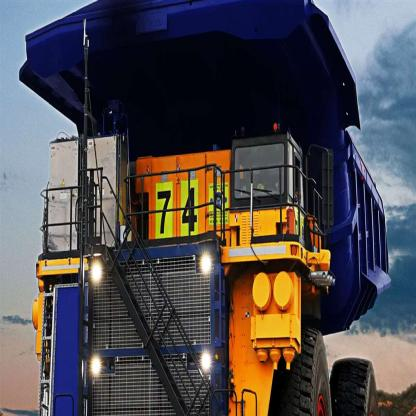dump_truck: (23, 8, 387, 415)
